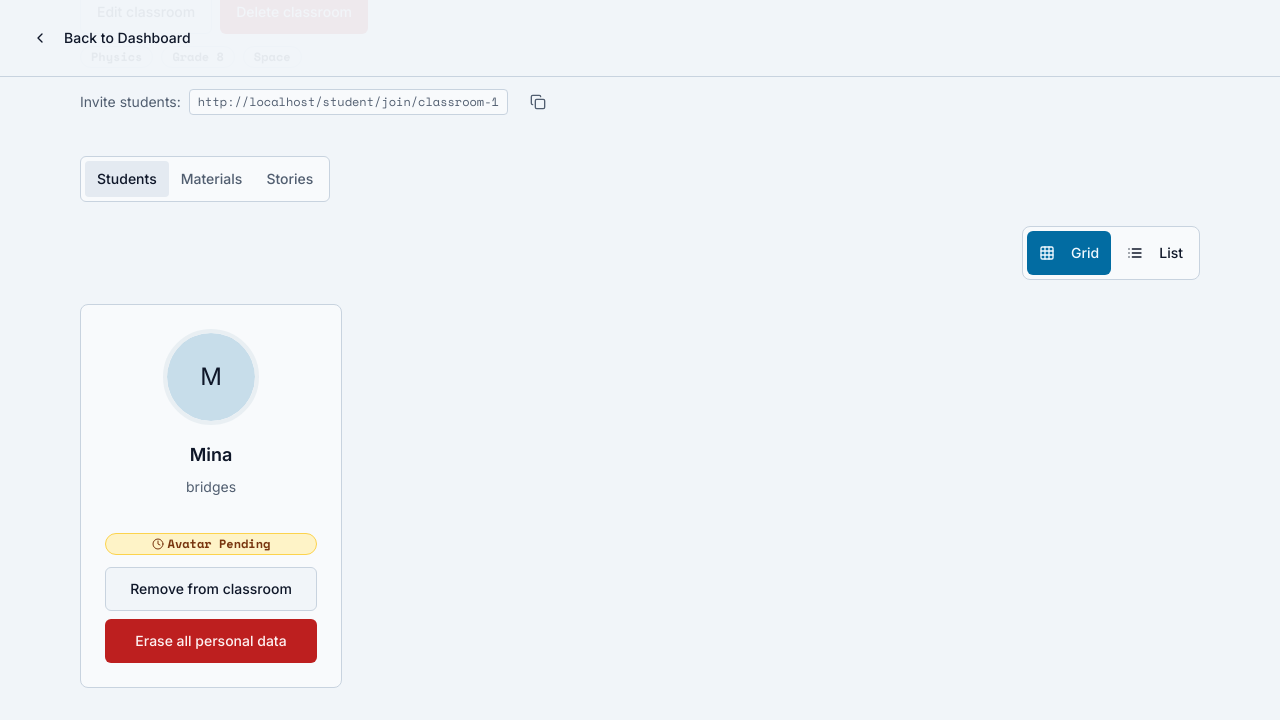
Test case: classroom materials › explains that full student erasure preserves completed stories
(page scrolled)
Check: the heading "Mina" is shown, box [190,444,232,465]
What coordinates should you click on to do the following:
click the button with aria-label "Erase all data for Mina"
I would click on:
 (211, 641)
Its box is [105,619,317,663].
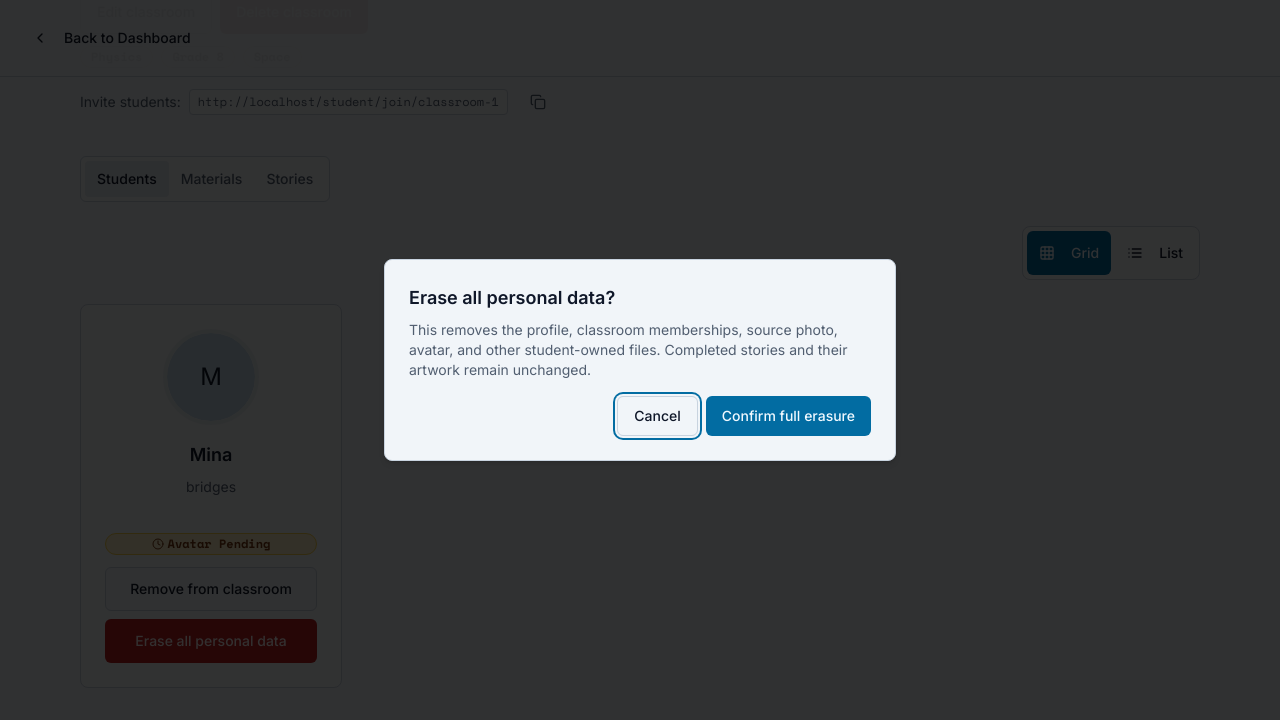
Check: the text "Completed stories and their artwork remain unchanged" is shown, box [409,321,848,378]
